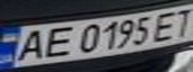0: (75, 20, 103, 54)
1: (100, 19, 121, 51)
5: (130, 13, 160, 46)
9: (115, 16, 139, 48)
A: (9, 26, 51, 63)
E: (36, 24, 78, 60), (148, 9, 187, 42)
T: (166, 6, 193, 37)
